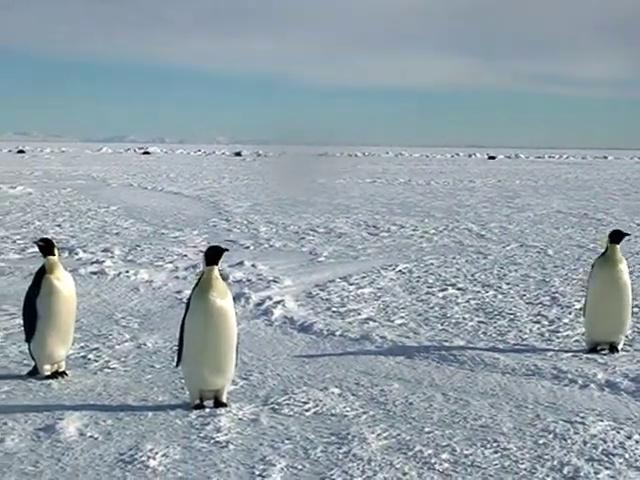animal: (176, 245, 237, 408)
